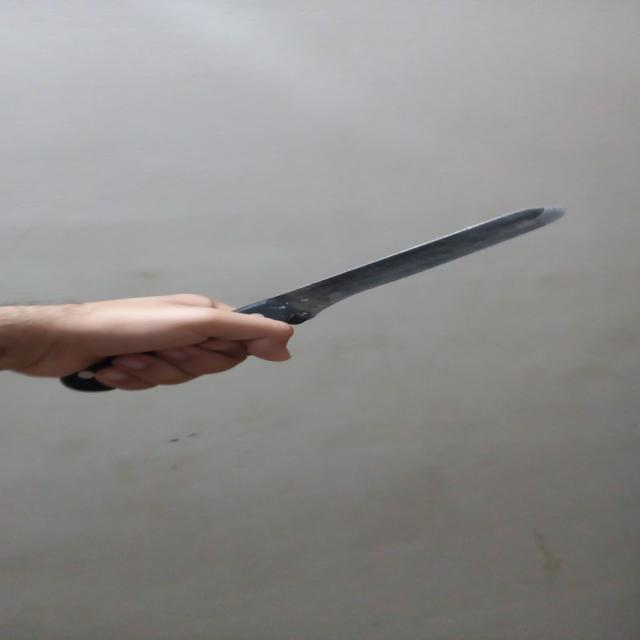Knife: (52, 202, 566, 396)
